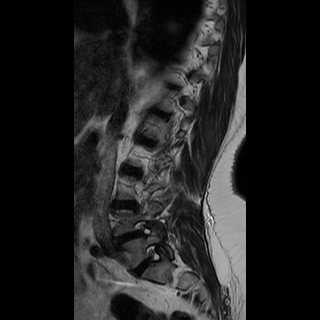RFS1: (141, 240, 169, 268)
RFS2: (129, 215, 158, 239)
